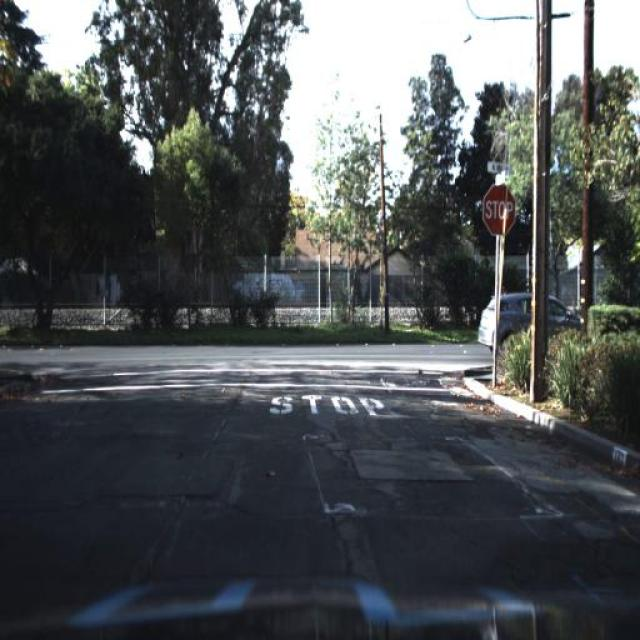car: (477, 290, 598, 364)
